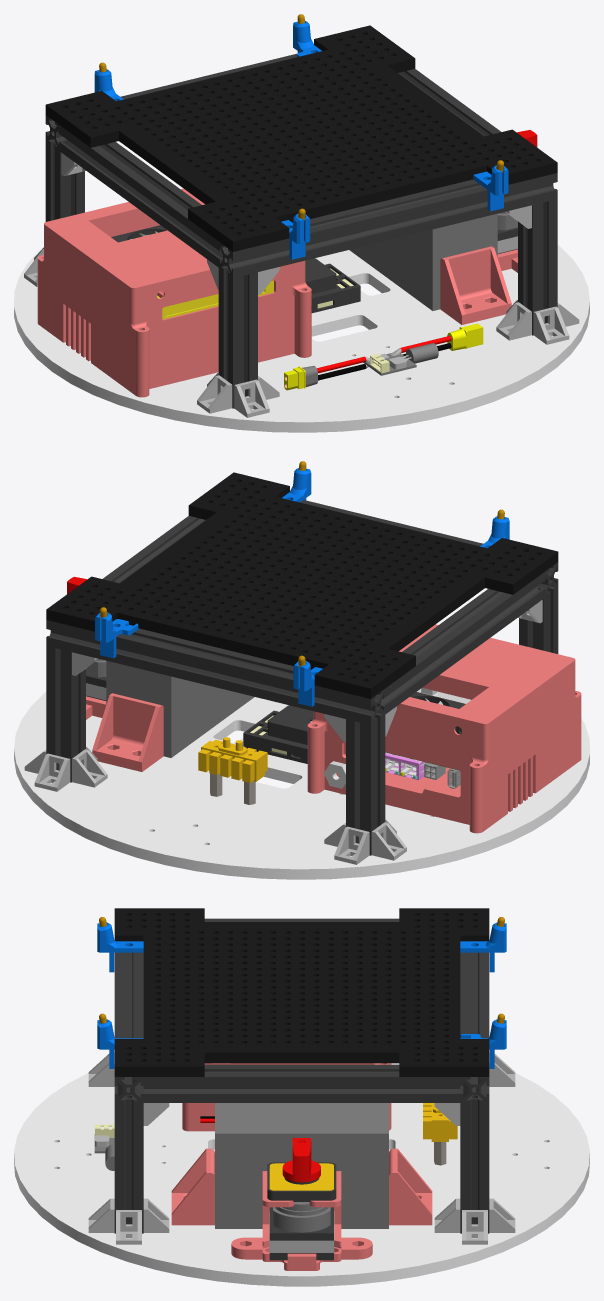
3 views of the same model, one above another, from view 1: azimuth 30°, elevation 25°; view 2: azimuth 150°, elevation 25°; view 3: azimuth 270°, elevation 25° (orthographic).
Parts seen in each view (by area): view 1: 0101_topCover_plate_PegBoard-1 - Part, 0101_alpha3_electronics_plate-1 - Part_clonedChild, jetson_housing_top_V2-1 - Part, jetson_housing_bot-1 - Part, 0102_alu_vslot_2020_260mm-6 - Part, 0102_alu_vslot_2020_220mm-1 - Part, 0005_battery_foxtech-1 - Part, 0102_alu_vslot_2020_100mm-2 - Part 4, battery_support-2 - Part, 0102_alu_vslot_2020_100mm-2 - Part 3, 0102_alu_vslot_2020_100mm-2 - Part 2, 0002_PIXHAWK 6X MINI-1 - Part (+13 smaller); view 2: 0101_topCover_plate_PegBoard-1 - Part, 0101_alpha3_electronics_plate-1 - Part_clonedChild, jetson_housing_top_V2-1 - Part, jetson_housing_bot-1 - Part, 0102_alu_vslot_2020_260mm-5 - Part, 0102_alu_vslot_2020_220mm-1 - Part, 0005_battery_foxtech-1 - Part, 0102_alu_vslot_2020_100mm-2 - Part 2, battery_support-1 - Part, 0102_alu_vslot_2020_100mm-2 - Part, 0002_PIXHAWK 6X MINI-1 - Part, 0008_tarot_distributor-1 - Part (+11 smaller); view 3: 0101_topCover_plate_PegBoard-1 - Part, 0101_alpha3_electronics_plate-1 - Part_clonedChild, 0005_battery_foxtech-1 - Part, 0102_alu_vslot_2020_220mm-3 - Part, switch_mount_V2-1 - Part, 0102_alu_vslot_2020_100mm-2 - Part, 0102_alu_vslot_2020_100mm-2 - Part 3, 0102_alu_vslot_2020_260mm-6 - Part, 0102_alu_vslot_2020_260mm-5 - Part, battery_support-1 - Part, battery_support-2 - Part, 4-1 - Part (+20 smaller).
Boxes of the visible parts, box(x1,y1,x2,y2) form: 0101_topCover_plate_PegBoard-1 - Part: box(45, 25, 557, 251); 0101_alpha3_electronics_plate-1 - Part_clonedChild: box(14, 245, 589, 432); jetson_housing_top_V2-1 - Part: box(37, 188, 311, 338); jetson_housing_bot-1 - Part: box(37, 265, 311, 397); 0102_alu_vslot_2020_260mm-6 - Part: box(218, 173, 557, 277); 0102_alu_vslot_2020_220mm-1 - Part: box(60, 126, 222, 267); 0005_battery_foxtech-1 - Part: box(349, 213, 497, 310); 0102_alu_vslot_2020_100mm-2 - Part 4: box(218, 268, 257, 408); battery_support-2 - Part: box(440, 246, 511, 324); 0102_alu_vslot_2020_100mm-2 - Part 3: box(518, 199, 557, 335); 0102_alu_vslot_2020_100mm-2 - Part 2: box(45, 141, 84, 221); 0002_PIXHAWK 6X MINI-1 - Part: box(305, 258, 360, 313); 0101_topCover_plate_PegBoard-1 - Part: box(46, 472, 558, 698); 0101_alpha3_electronics_plate-1 - Part_clonedChild: box(14, 692, 589, 879); jetson_housing_top_V2-1 - Part: box(307, 624, 581, 774); jetson_housing_bot-1 - Part: box(307, 701, 581, 833); 0102_alu_vslot_2020_260mm-5 - Part: box(46, 620, 385, 724); 0102_alu_vslot_2020_220mm-1 - Part: box(381, 573, 543, 714); 0005_battery_foxtech-1 - Part: box(106, 660, 254, 757); 0102_alu_vslot_2020_100mm-2 - Part 2: box(346, 715, 385, 855); battery_support-1 - Part: box(92, 693, 163, 771); 0102_alu_vslot_2020_100mm-2 - Part: box(46, 646, 85, 782); 0002_PIXHAWK 6X MINI-1 - Part: box(243, 705, 313, 763); 0008_tarot_distributor-1 - Part: box(198, 737, 267, 782); 0101_topCover_plate_PegBoard-1 - Part: box(114, 908, 489, 1076); 0101_alpha3_electronics_plate-1 - Part_clonedChild: box(14, 1063, 589, 1286); 0005_battery_foxtech-1 - Part: box(215, 1103, 388, 1228); 0102_alu_vslot_2020_220mm-3 - Part: box(143, 1064, 460, 1102); switch_mount_V2-1 - Part: box(231, 1171, 372, 1270); 0102_alu_vslot_2020_100mm-2 - Part: box(460, 1095, 489, 1233); 0102_alu_vslot_2020_100mm-2 - Part 3: box(114, 1095, 143, 1233); 0102_alu_vslot_2020_260mm-6 - Part: box(114, 952, 143, 1102); 0102_alu_vslot_2020_260mm-5 - Part: box(460, 952, 489, 1102); battery_support-1 - Part: box(389, 1148, 432, 1225); battery_support-2 - Part: box(171, 1148, 214, 1225); 4-1 - Part: box(273, 1207, 330, 1232).
Size of the model in its own units: 0.4 by 0.1527 by 0.3998.
124 materials, 1 textured.
